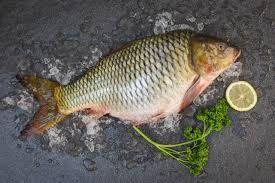Grass Carp: (16, 30, 244, 142)
